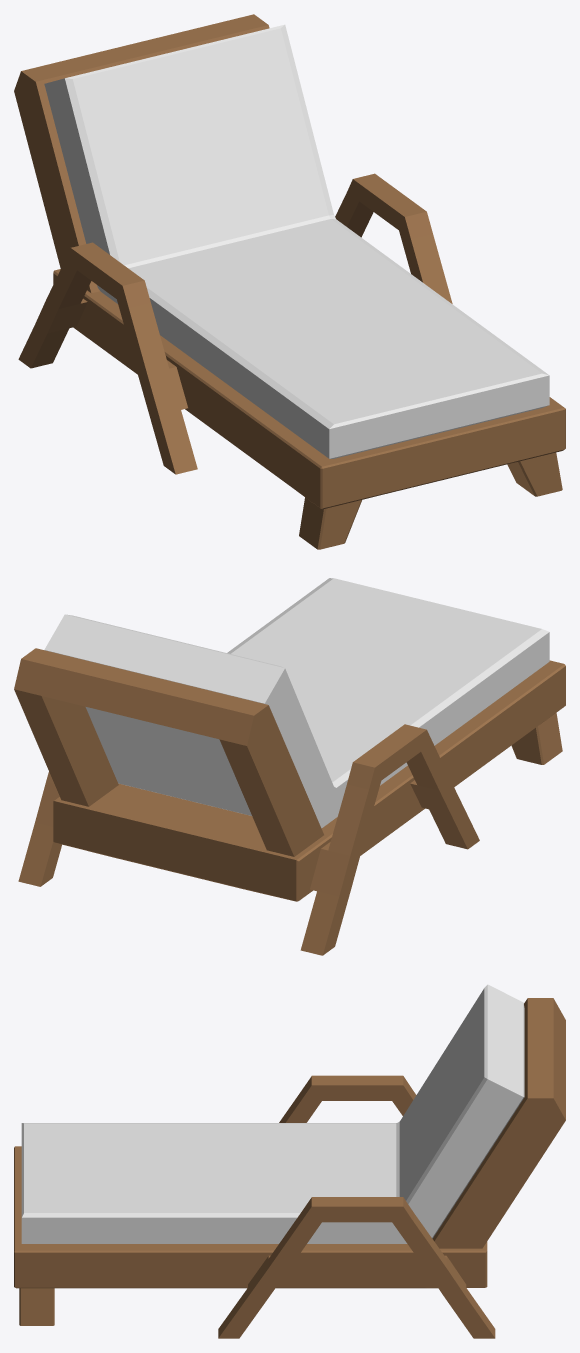
File: sling_chair_02.fbx
The picture shows the model from 3 angles, top to bottom: view 1: azimuth 30°, elevation 25°; view 2: azimuth 150°, elevation 25°; view 3: azimuth 270°, elevation 25°; orthographic projection. The views are drawn at different scales.
Visible parts, largest first — view 1: sling_cjair.006; view 2: sling_cjair.006; view 3: sling_cjair.006.
Part boxes in pixels (left/top/right/bottom): sling_cjair.006: left=14, top=14, right=565, bottom=549; sling_cjair.006: left=14, top=578, right=565, bottom=955; sling_cjair.006: left=14, top=984, right=565, bottom=1338.
Size of the model in its own units: 147 by 127 by 263.
